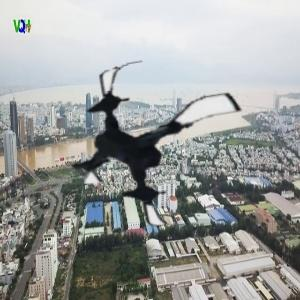drone: (65, 52, 249, 236)
